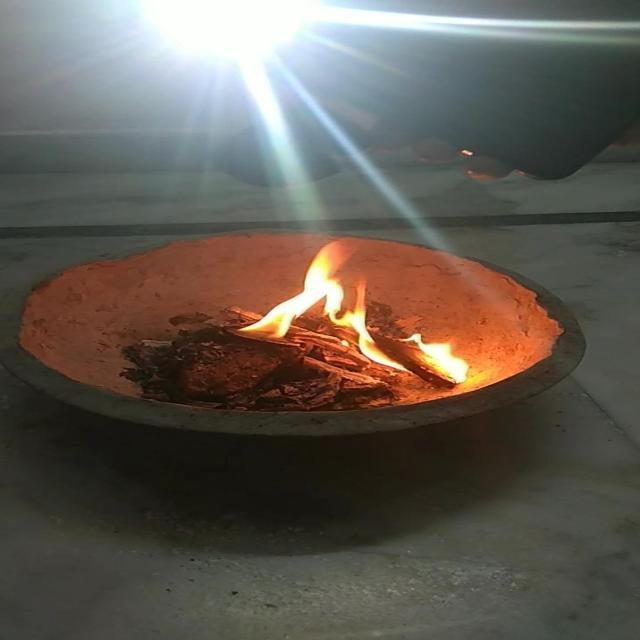smoke: (232, 242, 398, 380), (402, 333, 479, 385)
